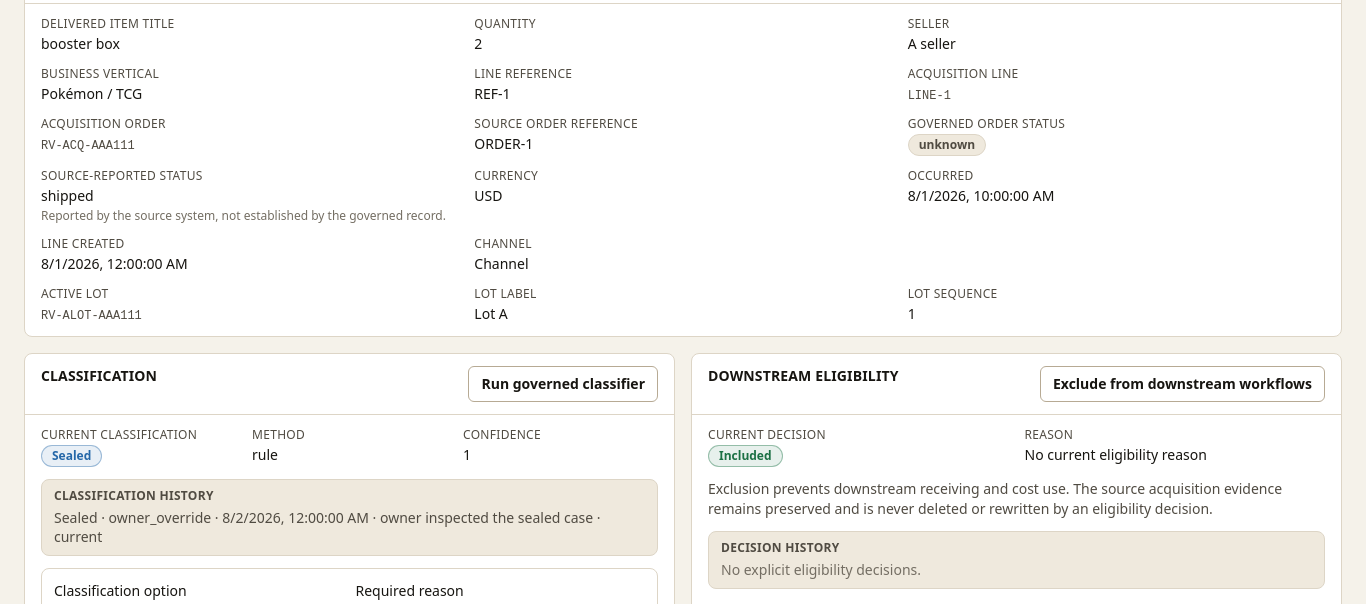
S1.6.6 classification › states an explicit pending state while the classifier runs
(page scrolled)
Step 1. Click the button "Run governed classifier" → x=563, y=384, box [468,366,658,402]
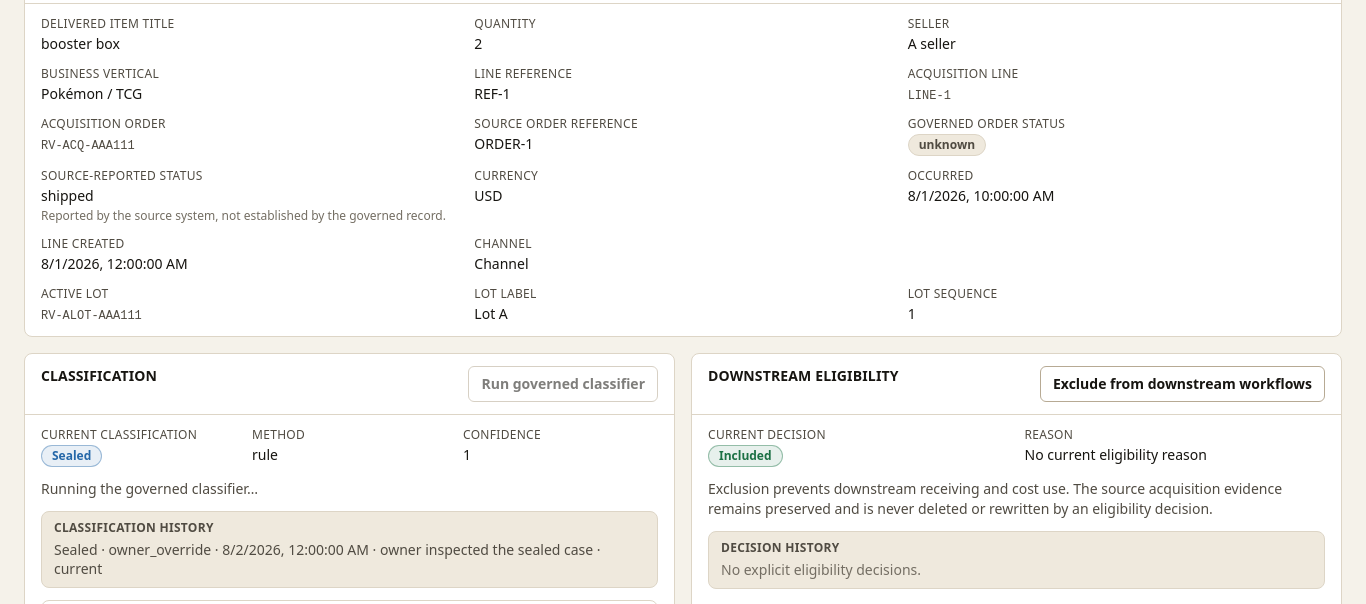
Now the text "Running the governed classifier…" is shown, box [41,479,258,498]
